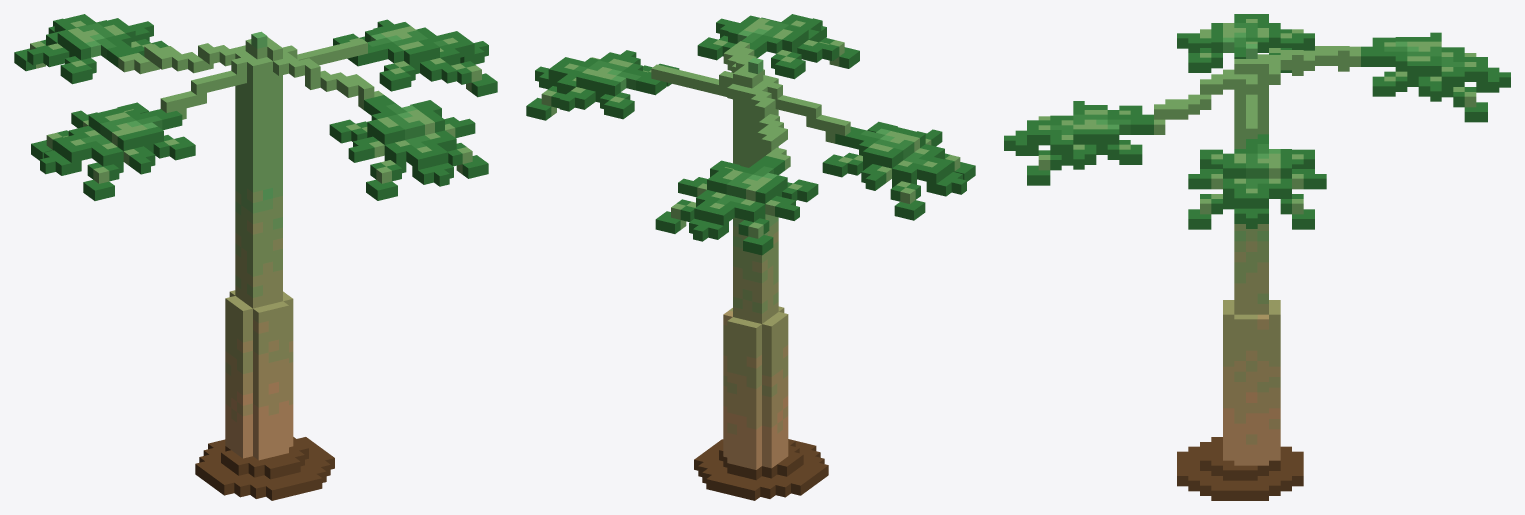
The model's file is 2_3 mamao.obj.
3 renders of one model, left to right at view 1: azimuth 30°, elevation 25°; view 2: azimuth 150°, elevation 25°; view 3: azimuth 270°, elevation 25°, orthographic. The views are drawn at different scales.
Bounding box in the file's own units: 4.4 × 4.1 × 4.4.
1 material, 1 textured.
